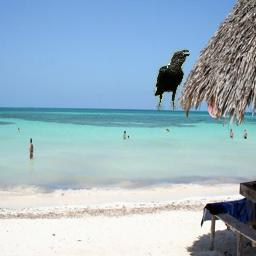Crow: (153, 48, 191, 111)
